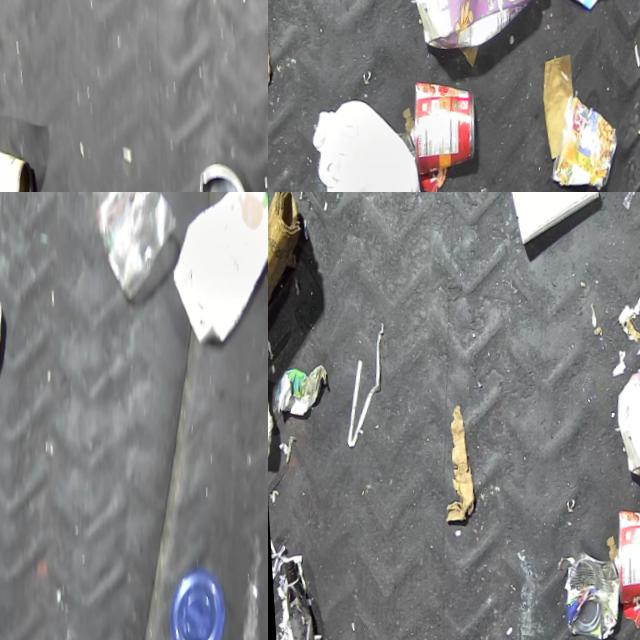can: (537, 94, 616, 192), (399, 79, 474, 182), (549, 548, 618, 640), (602, 506, 640, 609), (185, 156, 250, 192), (0, 137, 27, 192), (268, 370, 273, 463)
milk_jug: (159, 192, 268, 359), (290, 93, 426, 192)
non_white_jug: (398, 0, 554, 64), (602, 327, 640, 492)
